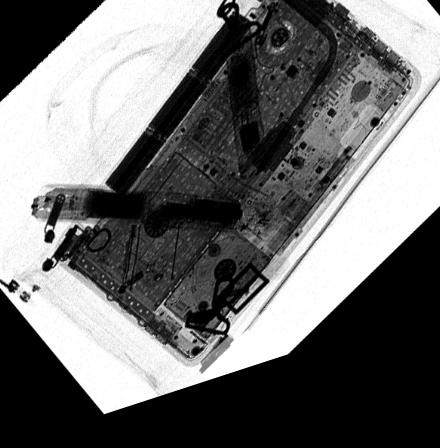Baton: (29, 185, 281, 253), (222, 37, 267, 194)
